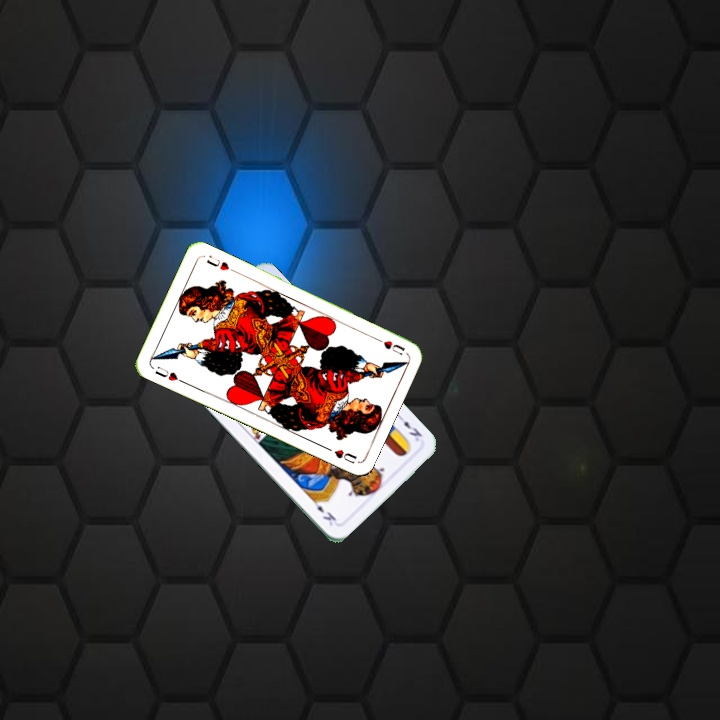EK: (394, 411, 425, 444)
HU: (370, 333, 407, 358), (151, 362, 187, 386)
